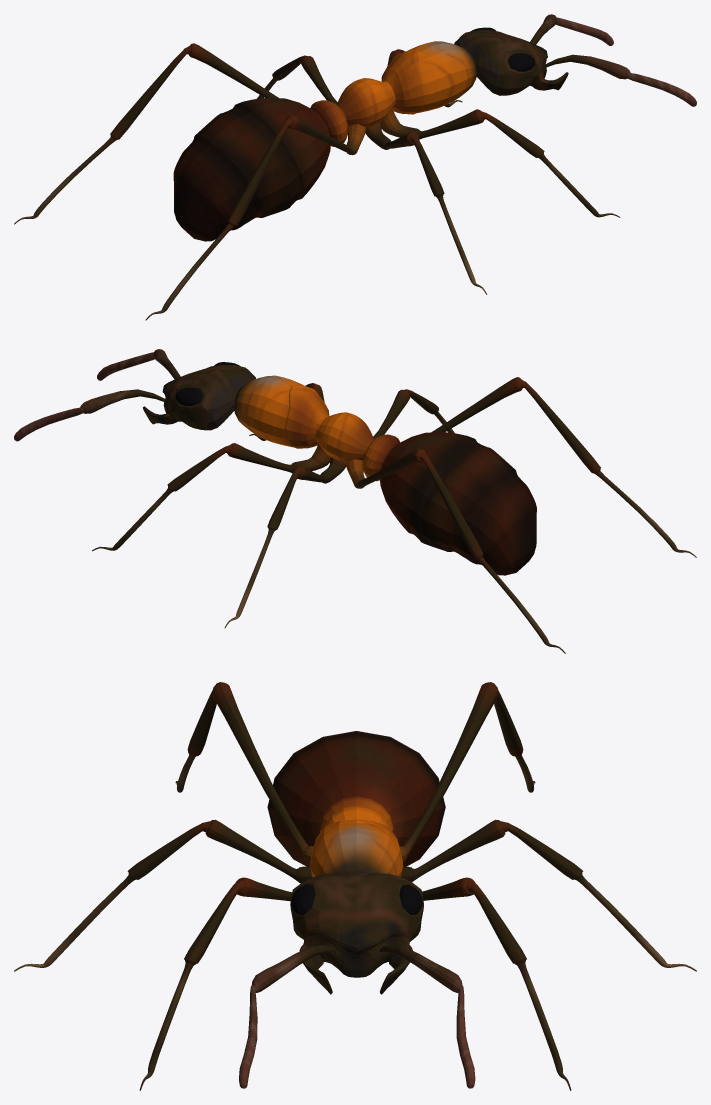
File: pawn.obj
3 renders of one model, top to bottom at view 1: azimuth 30°, elevation 25°; view 2: azimuth 150°, elevation 25°; view 3: azimuth 270°, elevation 25°, orthographic. The views are drawn at different scales.
Parts seen in each view (by area): view 1: Sphere.002_Sphere; view 2: Sphere.002_Sphere; view 3: Sphere.002_Sphere.
Part boxes in pixels (left/top/right/bottom): Sphere.002_Sphere: left=14, top=14, right=696, bottom=320; Sphere.002_Sphere: left=14, top=349, right=696, bottom=653; Sphere.002_Sphere: left=14, top=682, right=696, bottom=1090.
Size of the model in its own units: 2.3 by 0.5861 by 1.73.
Materials: 1 (1 with a texture image).
